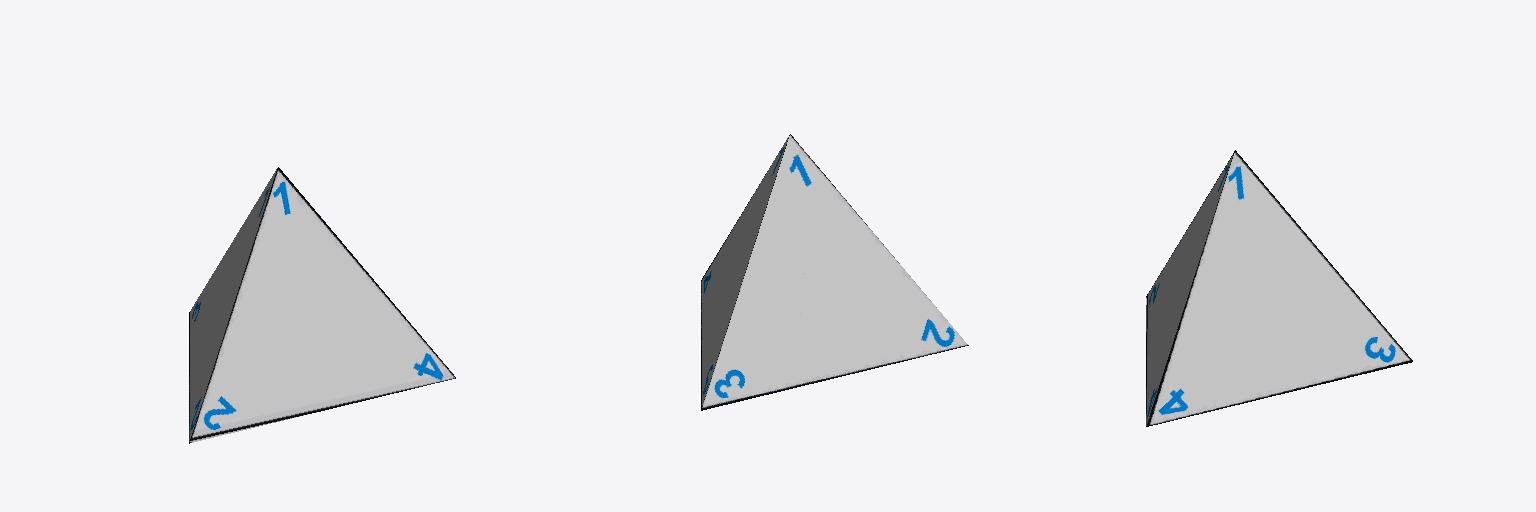
3 renders of one model, left to right at view 1: azimuth 30°, elevation 25°; view 2: azimuth 150°, elevation 25°; view 3: azimuth 270°, elevation 25°, orthographic.
Parts seen in each view (by area): view 1: Cone.001; view 2: Cone.001; view 3: Cone.001.
Boxes of the visible parts, <box> form: Cone.001: <box>189,167,455,443</box>; Cone.001: <box>701,134,968,410</box>; Cone.001: <box>1146,150,1412,426</box>.
Bounding box in the file's own units: 2.01 × 1.52 × 1.74.
1 materials, 1 textured.